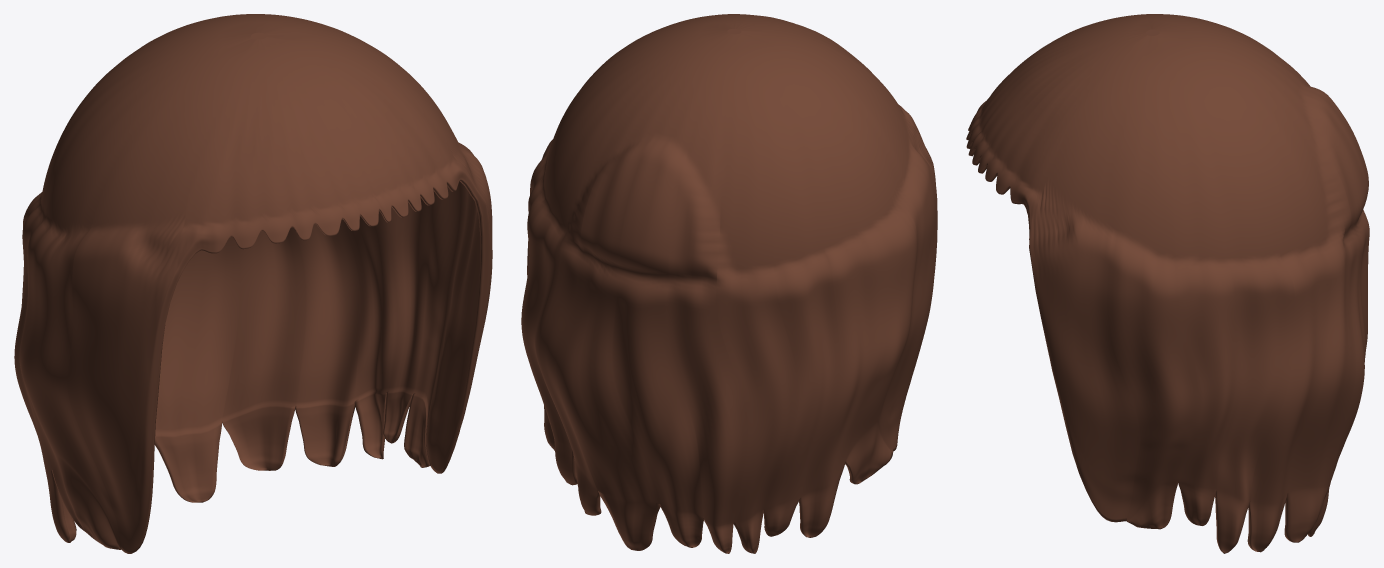
Rendered from long-cap.glb.
The picture shows the model from 3 angles, left to right: view 1: azimuth 30°, elevation 25°; view 2: azimuth 150°, elevation 25°; view 3: azimuth 270°, elevation 25°; orthographic projection. The views are drawn at different scales.
Visible parts, largest first — view 1: Hair / rounded long fringe; view 2: Hair / rounded long fringe; view 3: Hair / rounded long fringe.
Part boxes in pixels (x1=…): Hair / rounded long fringe: x1=14, y1=14, x2=492, y2=553; Hair / rounded long fringe: x1=521, y1=14, x2=937, y2=553; Hair / rounded long fringe: x1=966, y1=14, x2=1369, y2=553.
Bounding box in the file's own units: 0.8534 × 1.04 × 0.7751.
